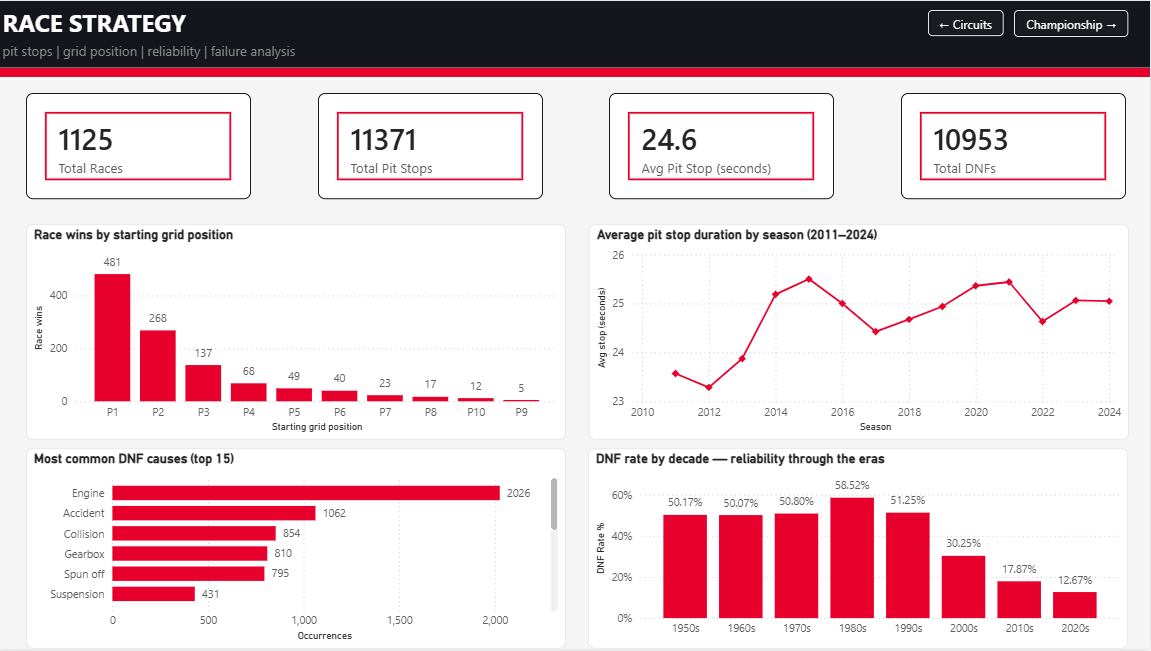

This screenshot's page, from the dashboard's own definition file:
{"tool":"powerbi","page":{"name":"Strategy","canvas":[1280,720],"ordinal":4},"visuals":[{"type":"shape","box":[0,74,1280,10],"z":0},{"type":"textbox","box":[0,0,1280,46.7],"z":1000},{"type":"textbox","box":[0,39.9,1280,34],"z":2000},{"type":"actionButton","box":[1033.6,10,83.6,29.1],"z":3000},{"type":"actionButton","box":[1129.1,10,127.3,30],"z":4000},{"type":"cardVisual","fields":{"Data":["_Measures.Total Races"]},"box":[30.9,102.7,250,118],"z":5000},{"type":"cardVisual","fields":{"Data":["_Measures.Total Pit Stops"]},"box":[355.2,102.7,250,118],"z":6000},{"type":"cardVisual","fields":{"Data":["_Measures.Avg Pit Stop Secs"]},"box":[679.4,102.7,250,118],"z":7000},{"type":"cardVisual","fields":{"Data":["_Measures.Total DNFs"]},"box":[1003.6,102.7,250,118],"z":8000},{"type":"clusteredColumnChart","title":"Race wins by starting grid position","fields":{"Y":["_Measures.Total Wins"],"Category":["results.GridLabel"]},"box":[30.9,247.3,600,240],"z":9000},{"type":"lineChart","title":"Average pit stop duration by season (2011–2024)","fields":{"Category":["races.year"],"Y":["_Measures.Avg Pit Stop Secs"]},"box":[656.4,247.3,600,240],"z":10000},{"type":"clusteredBarChart","title":"Most common DNF causes (top 15)","fields":{"Category":["status.status"],"Y":["CountNonNull(results.resultId)"]},"box":[31,497,600,223],"z":11000},{"type":"clusteredColumnChart","title":"DNF rate by decade — reliability through the eras","fields":{"Category":["races.Decade"],"Y":["_Measures.DNF Rate %"]},"box":[656,497,600,223],"z":12000}]}

Visuals, with their boxes in screenshot pixels (x1, y1, x2, y2), scaled from the page's 1280x720 canvas onto the 1151x651 screenshot:
shape: [0,67,1150,76]
textbox: [0,0,1150,42]
textbox: [0,36,1150,67]
actionButton: [929,9,1005,35]
actionButton: [1015,9,1130,36]
cardVisual - _Measures.Total Races: [28,93,253,200]
cardVisual - _Measures.Total Pit Stops: [319,93,544,200]
cardVisual - _Measures.Avg Pit Stop Secs: [611,93,836,200]
cardVisual - _Measures.Total DNFs: [902,93,1127,200]
"Race wins by starting grid position" clusteredColumnChart: [28,224,567,441]
"Average pit stop duration by season (2011–2024)" lineChart: [590,224,1130,441]
"Most common DNF causes (top 15)" clusteredBarChart: [28,449,567,650]
"DNF rate by decade — reliability through the eras" clusteredColumnChart: [590,449,1129,650]
